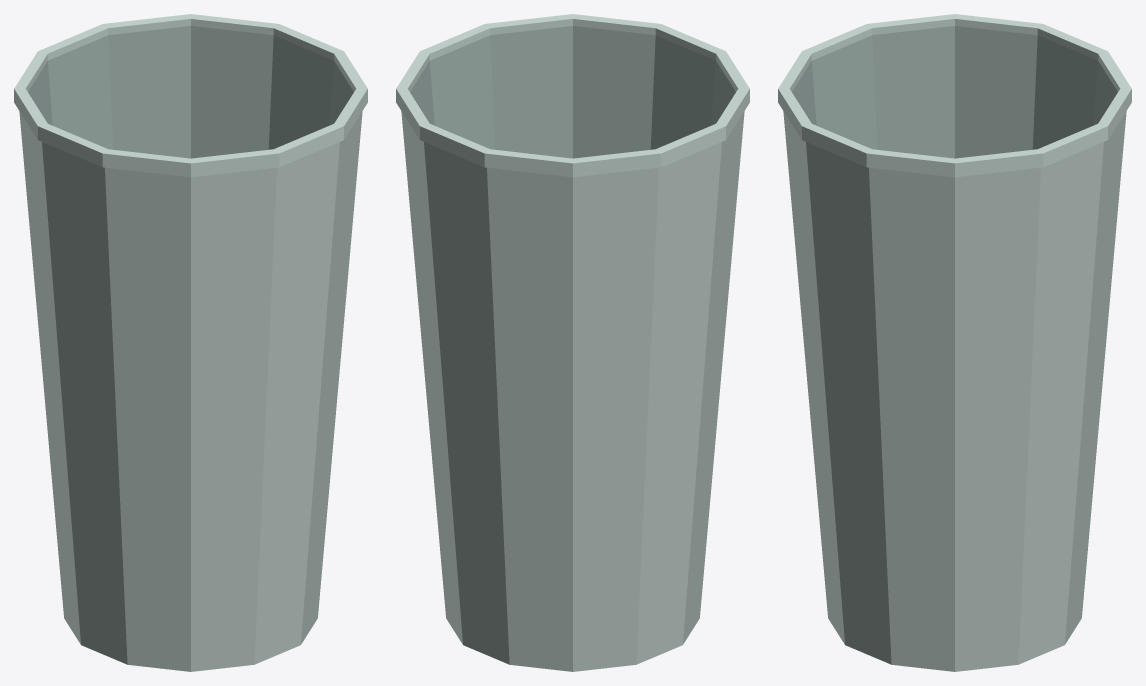
The model's file is lwf_litter_beer_cup_v1.glb.
The picture shows the model from 3 angles, left to right: view 1: azimuth 30°, elevation 25°; view 2: azimuth 150°, elevation 25°; view 3: azimuth 270°, elevation 25°; orthographic projection.
Parts seen in each view (by area): view 1: LWF_Litter_Beer_Cup_V1; view 2: LWF_Litter_Beer_Cup_V1; view 3: LWF_Litter_Beer_Cup_V1.
Part boxes in pixels (<box>): LWF_Litter_Beer_Cup_V1: <box>14,14,367,671</box>; LWF_Litter_Beer_Cup_V1: <box>396,14,749,671</box>; LWF_Litter_Beer_Cup_V1: <box>778,14,1131,671</box>.
Size of the model in its own units: 0.092 by 0.152 by 0.092.
1 material, 1 textured.
